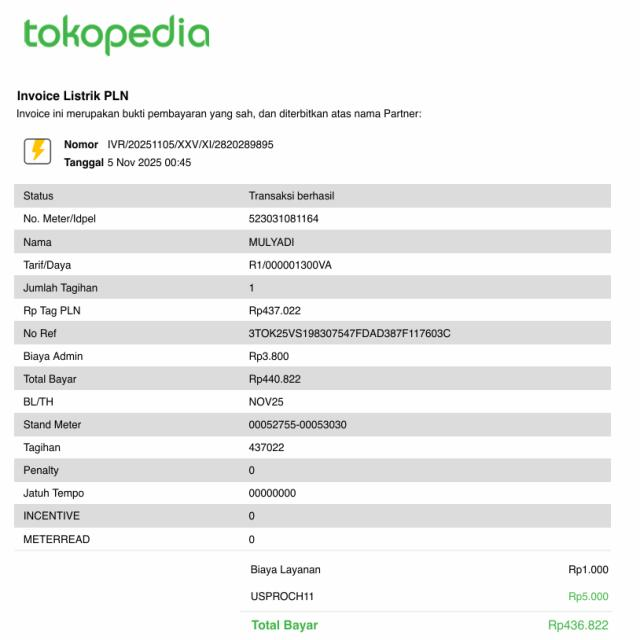date: (105, 154, 195, 170)
store: (19, 12, 214, 56), (12, 86, 138, 108)
total: (248, 614, 620, 640)
